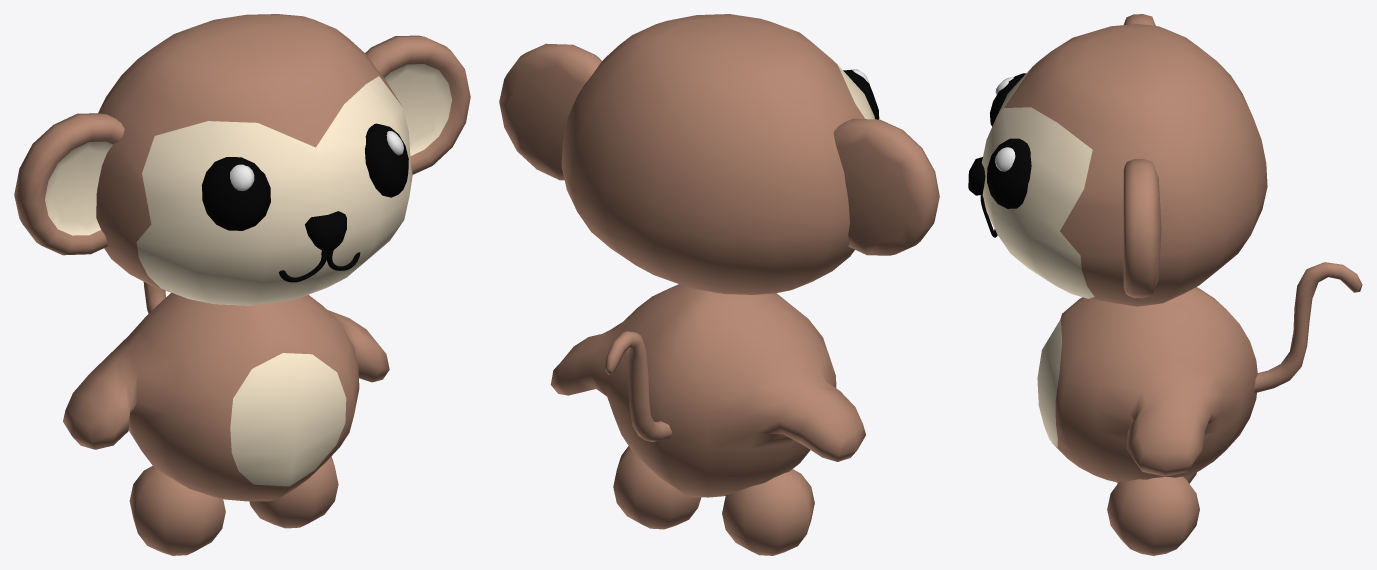
The model's file is monkey.fbx.
3 views of the same model, side by side, from view 1: azimuth 30°, elevation 25°; view 2: azimuth 150°, elevation 25°; view 3: azimuth 270°, elevation 25° (orthographic). The views are drawn at different scales.
Parts seen in each view (by area): view 1: monkey_head, monkey_body; view 2: monkey_head, monkey_body; view 3: monkey_head, monkey_body.
Boxes of the visible parts, <box> form: monkey_head: <box>14,14,470,305</box>; monkey_body: <box>63,282,389,555</box>; monkey_head: <box>499,14,939,294</box>; monkey_body: <box>550,284,865,555</box>; monkey_head: <box>968,14,1267,306</box>; monkey_body: <box>1037,262,1362,555</box>.
Bounding box in the file's own units: 84.34 × 92.7 × 68.92.
